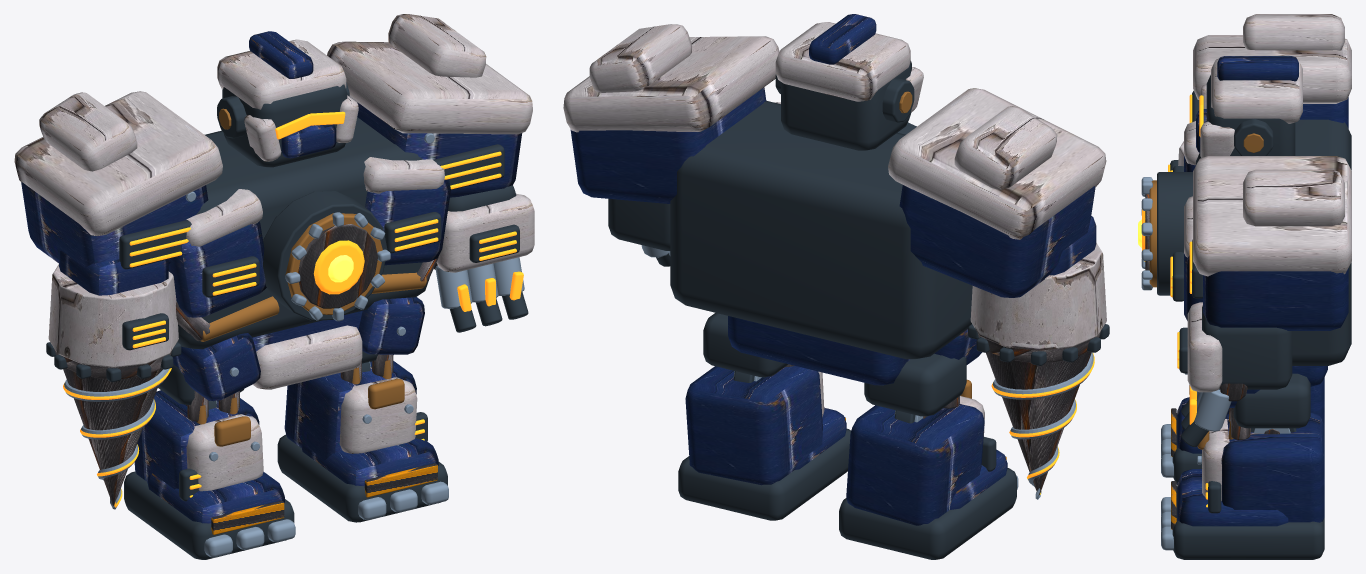
Rendered from forge_titan_armored.glb.
3 views of the same model, side by side, from view 1: azimuth 30°, elevation 25°; view 2: azimuth 150°, elevation 25°; view 3: azimuth 270°, elevation 25° (orthographic). The views are drawn at different scales.
Parts seen in each view (by area): view 1: Ceramic, Cobalt, Graphite, Ceramic.003, Cobalt.002, Cobalt.001, Molten reactor, Graphite.001, Heat-treated steel.001, Graphite.002, Ceramic.004, Ceramic.002 (+20 smaller); view 2: Graphite, Ceramic, Cobalt, Cobalt.002, Cobalt.001, Graphite.001, Ceramic.003, Graphite.002, Heat-treated steel.001, Graphite.004, Machined edges.003, Graphite.003 (+3 smaller); view 3: Ceramic, Cobalt, Cobalt.002, Graphite, Graphite.002, Graphite.004, Ceramic.004, Ceramic.002, Machined edges.004, Anodized bronze, Cobalt.001, Machined edges (+7 smaller).
Part boxes in pixels (left/top/right/bottom): Ceramic: left=14, top=14, right=532, bottom=389; Cobalt: left=21, top=31, right=522, bottom=401; Graphite: left=119, top=82, right=504, bottom=349; Ceramic.003: left=48, top=264, right=178, bottom=367; Cobalt.002: left=284, top=361, right=438, bottom=486; Cobalt.001: left=134, top=390, right=284, bottom=523; Molten reactor: left=129, top=111, right=501, bottom=295; Graphite.001: left=124, top=363, right=294, bottom=559; Heat-treated steel.001: left=63, top=368, right=162, bottom=505; Graphite.002: left=277, top=351, right=447, bottom=522; Ceramic.004: left=436, top=193, right=534, bottom=272; Ceramic.002: left=339, top=377, right=417, bottom=453; Graphite: left=670, top=61, right=972, bottom=359; Ceramic: left=563, top=22, right=1106, bottom=239; Cobalt: left=570, top=14, right=1095, bottom=385; Cobalt.002: left=685, top=366, right=846, bottom=485; Cobalt.001: left=846, top=404, right=1007, bottom=525; Graphite.001: left=839, top=353, right=1016, bottom=559; Ceramic.003: left=970, top=243, right=1106, bottom=350; Graphite.002: left=678, top=313, right=850, bottom=520; Heat-treated steel.001: left=986, top=351, right=1091, bottom=494; Graphite.004: left=608, top=198, right=670, bottom=266; Machined edges.003: left=992, top=352, right=1093, bottom=499; Graphite.003: left=968, top=324, right=1109, bottom=365; Ceramic: left=1184, top=14, right=1351, bottom=276; Cobalt: left=1184, top=56, right=1348, bottom=407; Cobalt.002: left=1177, top=412, right=1324, bottom=526; Graphite: left=1157, top=75, right=1351, bottom=365; Graphite.002: left=1172, top=373, right=1324, bottom=559; Graphite.004: left=1179, top=305, right=1292, bottom=447; Ceramic.004: left=1187, top=302, right=1222, bottom=392; Ceramic.002: left=1202, top=419, right=1229, bottom=500; Machined edges.004: left=1194, top=389, right=1231, bottom=431; Anodized bronze: left=1149, top=133, right=1263, bottom=287; Cobalt.001: left=1177, top=377, right=1324, bottom=453; Machined edges: left=1141, top=177, right=1187, bottom=374.
Size of the model in its own units: 3.08 by 2.93 by 1.28.
Materials: 10 (5 with a texture image).
